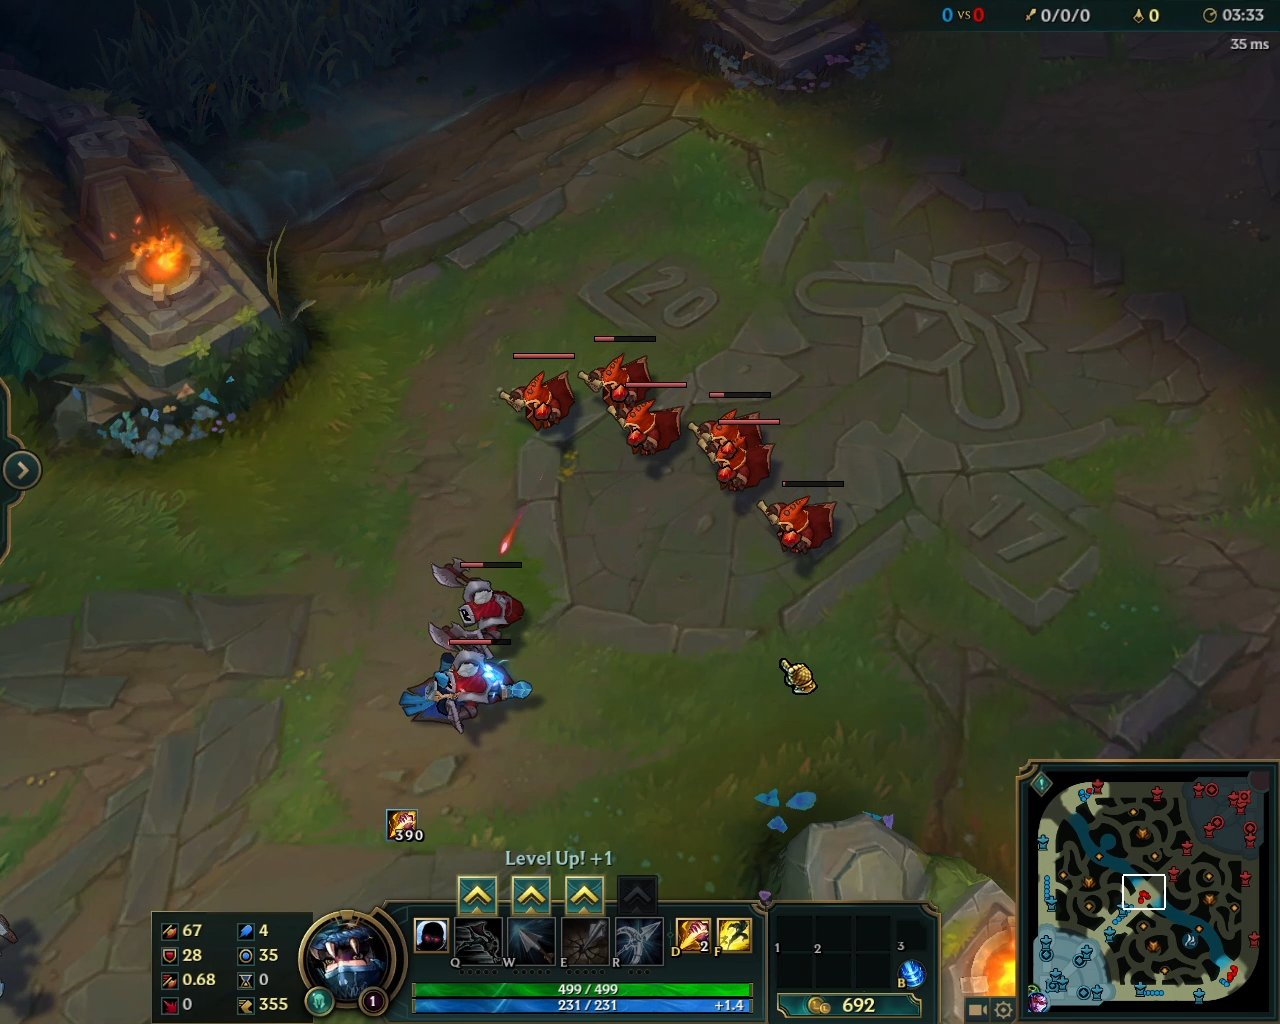EnemyMinion: (426, 637, 517, 735), (430, 560, 525, 645), (755, 480, 844, 559), (499, 352, 575, 438), (578, 335, 657, 415), (608, 383, 686, 461), (711, 419, 783, 491)
